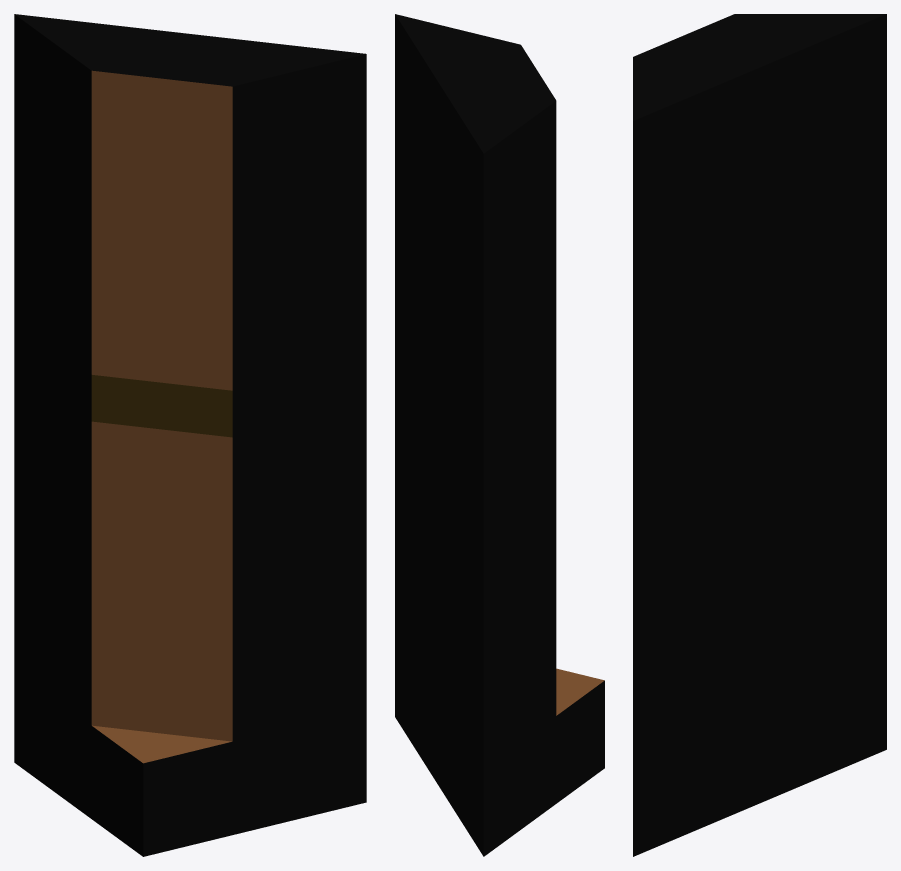
File: corner1.FBX
3 views of the same model, side by side, from view 1: azimuth 30°, elevation 25°; view 2: azimuth 150°, elevation 25°; view 3: azimuth 270°, elevation 25° (orthographic). The views are drawn at different scales.
Visible parts, largest first — view 1: corner1_wall, corner1_step; view 2: corner1_wall, corner1_step; view 3: corner1_wall.
Boxes of the visible parts, x1,y1,x2,y2 form: corner1_wall: (14, 14, 366, 834); corner1_step: (91, 725, 232, 856); corner1_wall: (395, 14, 556, 856); corner1_step: (556, 668, 604, 803); corner1_wall: (633, 14, 886, 856).
Bounding box in the file's own units: 50 × 160 × 50.
